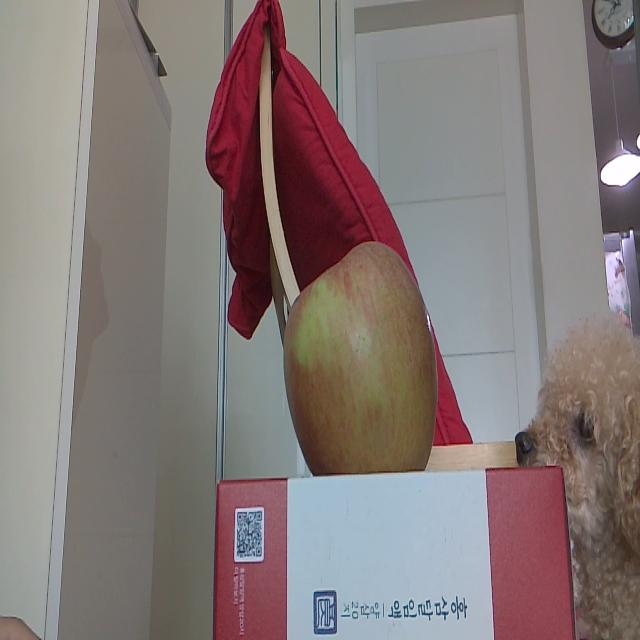apple: (282, 239, 436, 477)
